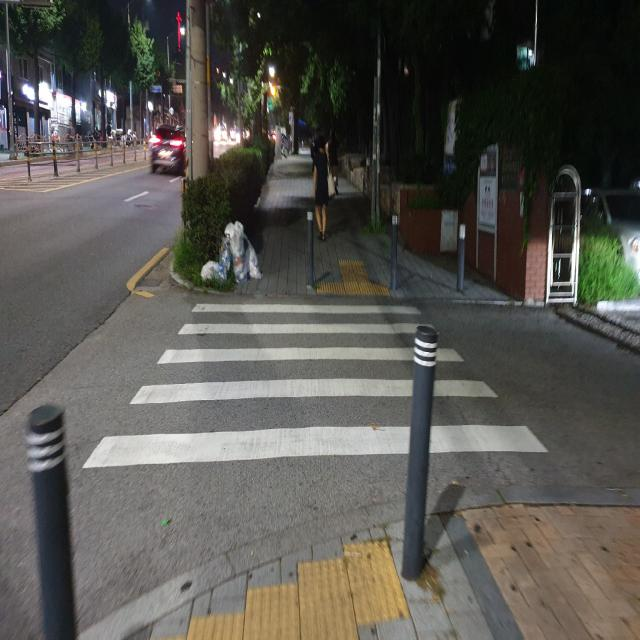횡단보도: (83, 304, 548, 468)
